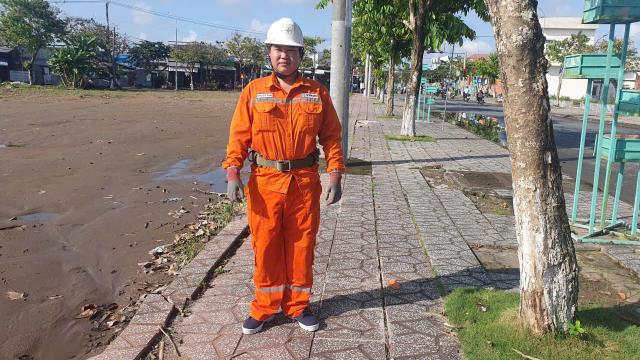gloves: (214, 158, 250, 209), (324, 163, 355, 210)
harness: (242, 139, 320, 174)
helmet: (259, 17, 309, 54)
shoes: (241, 292, 275, 336), (285, 302, 329, 336)
